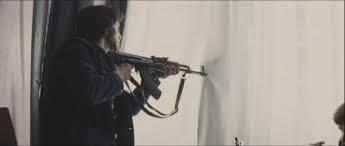rifle: (103, 50, 209, 103)
